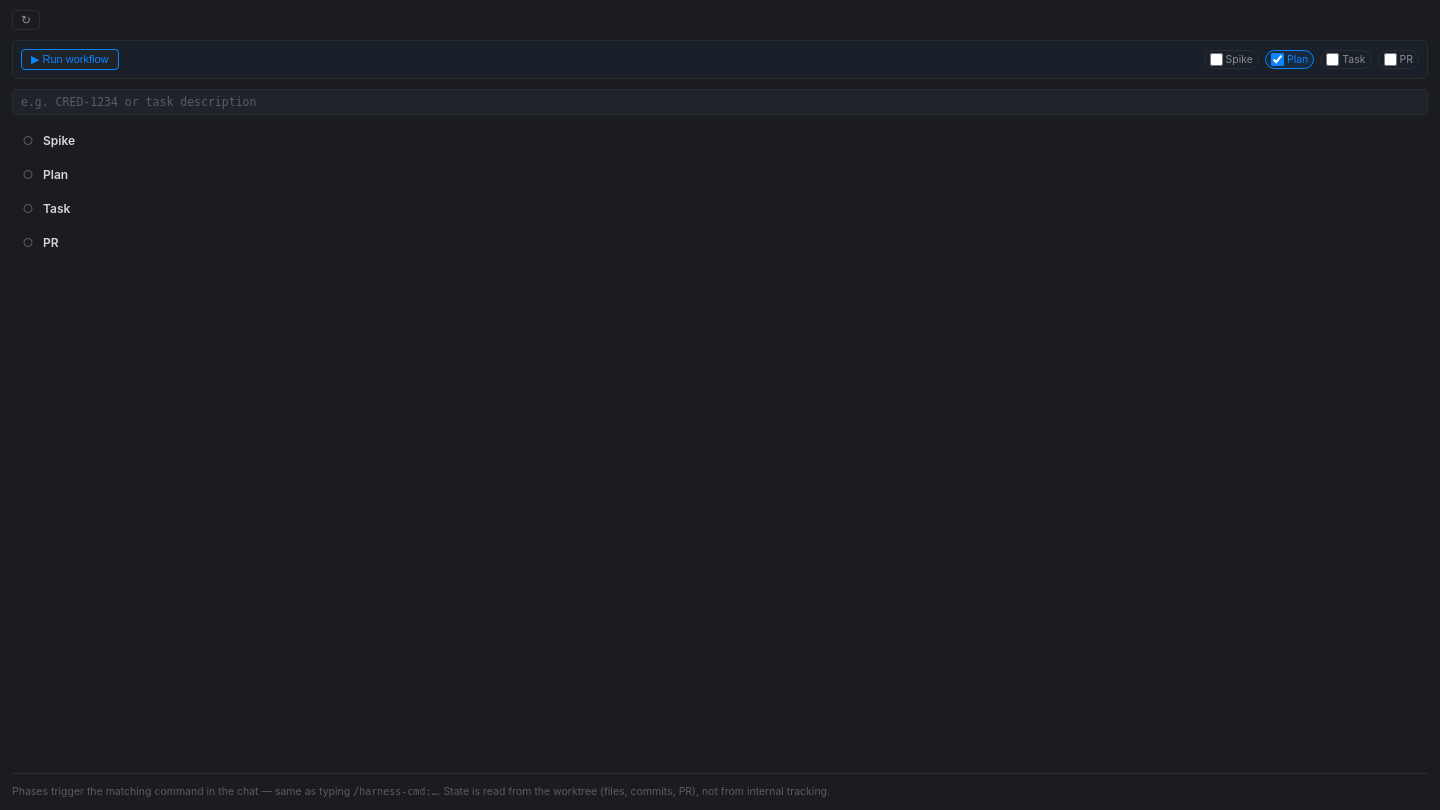
it: UI-03 — expanded section content › shows the spike description text when spike is open
Click the button "○ Spike": coordinates (49, 140) [22,133,75,148]
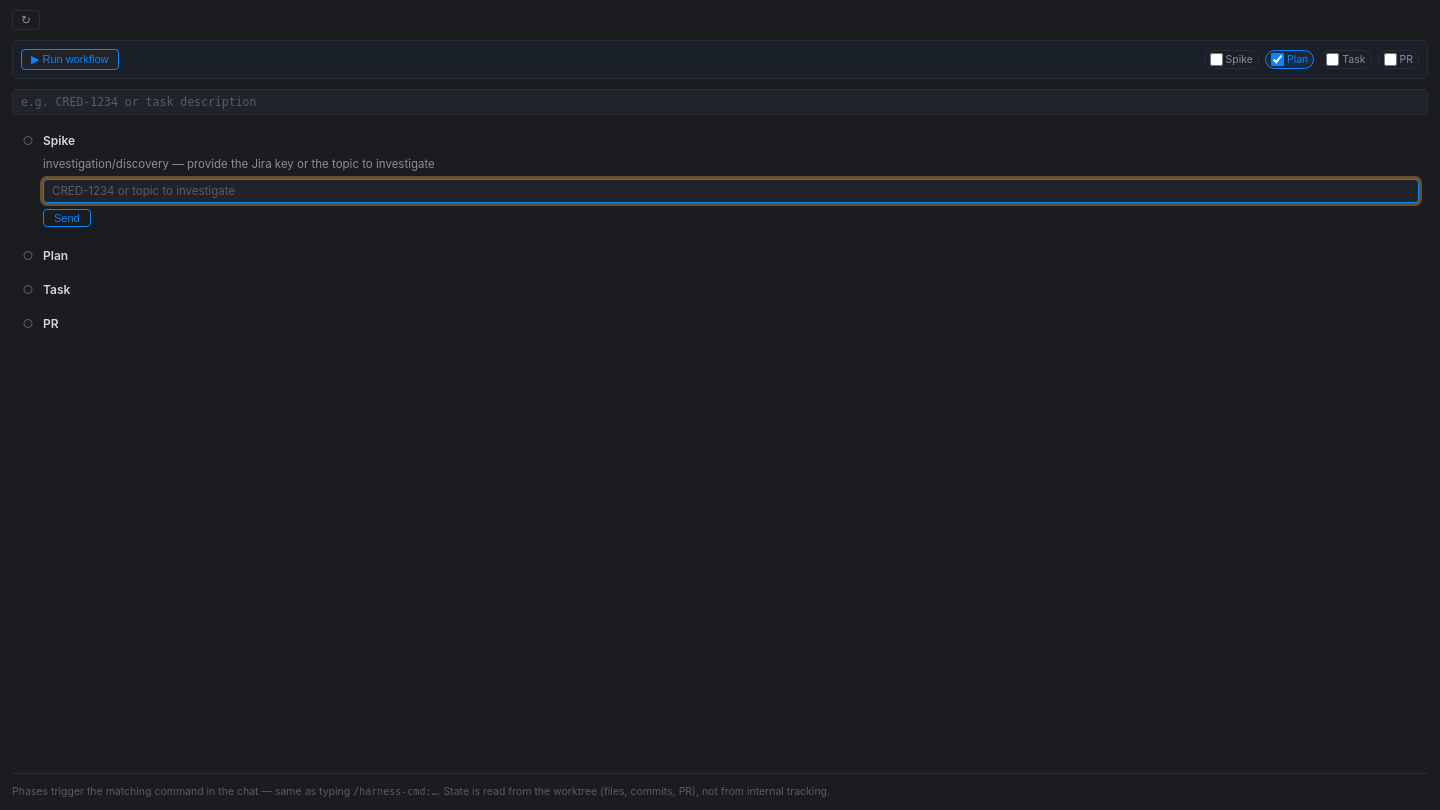
Result: the text "investigation/discovery — provide the Jira key or the topic to investigate" is shown at [43,157,435,171]
